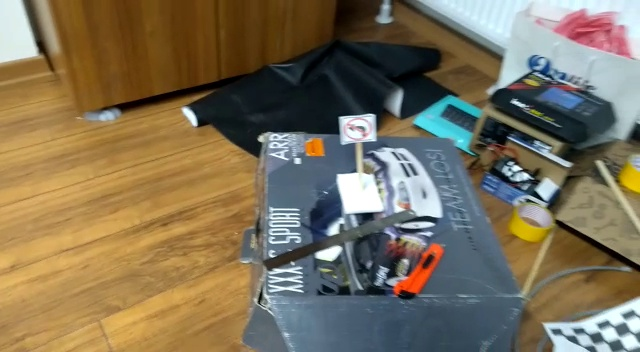sola_donulmez: (341, 116, 374, 143)
